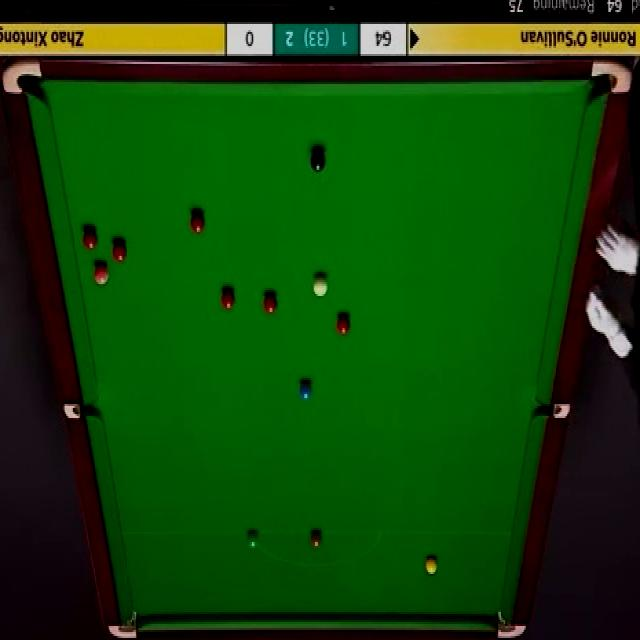black-ball: (309, 150, 325, 175)
blue-ball: (299, 379, 312, 401)
brown-ball: (310, 530, 322, 547)
green-ball: (247, 530, 258, 550)
pink-ball: (92, 262, 109, 287)
red-ball: (189, 210, 207, 235), (220, 288, 235, 313), (112, 241, 127, 262), (264, 293, 278, 315), (337, 313, 350, 336), (83, 227, 96, 249)
white-ball: (312, 271, 330, 298)
yellow-ball: (424, 554, 438, 574)
